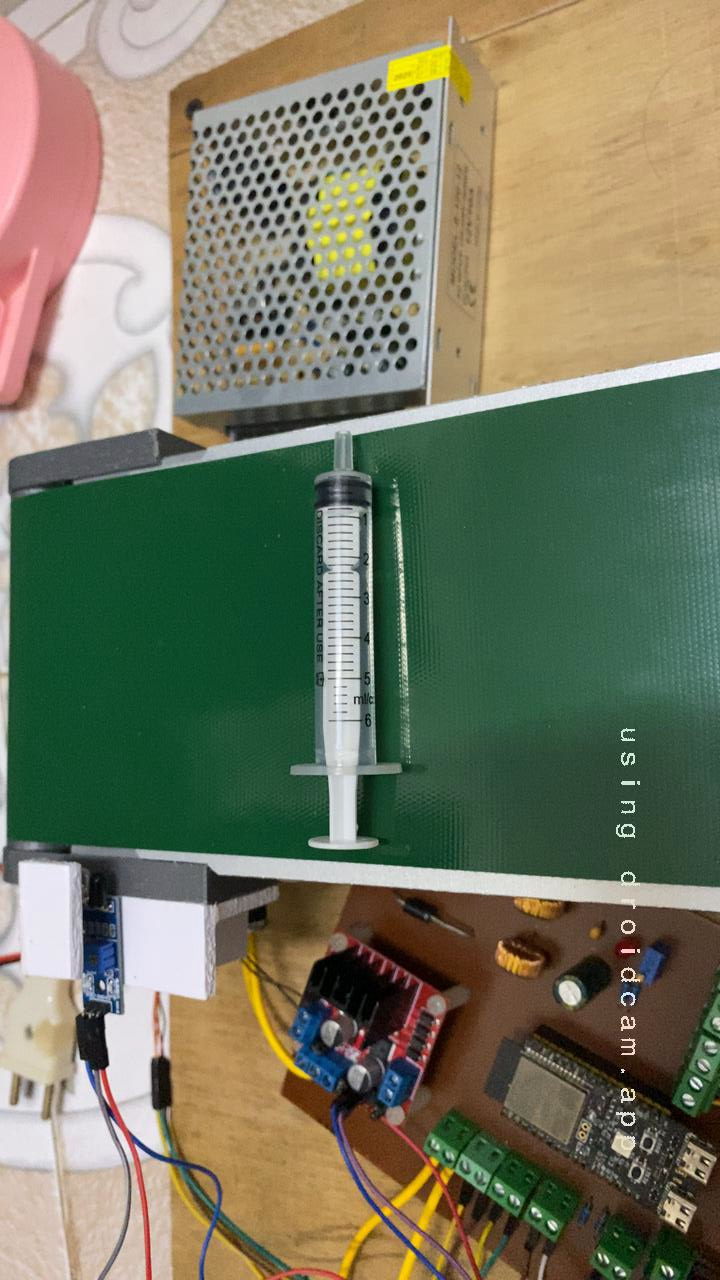syringe: (260, 460, 437, 801)
